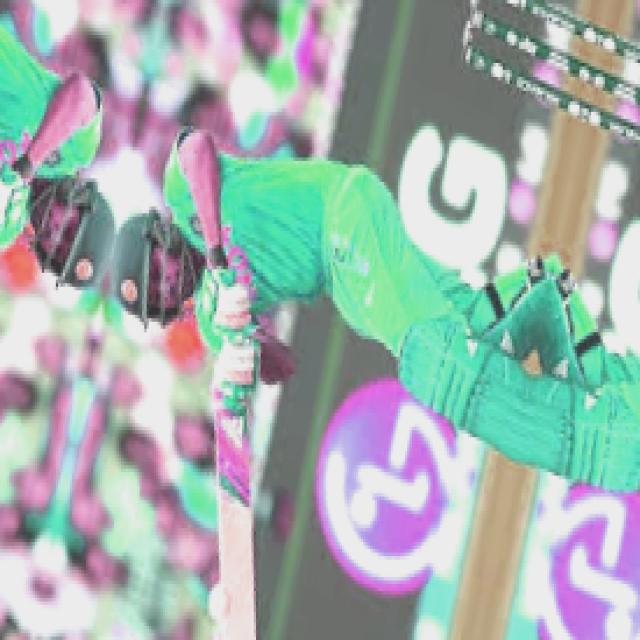toe: (221, 632, 268, 640)
